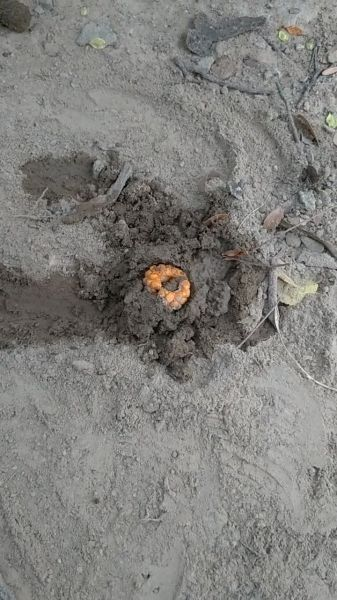eggs: (137, 253, 197, 317)
